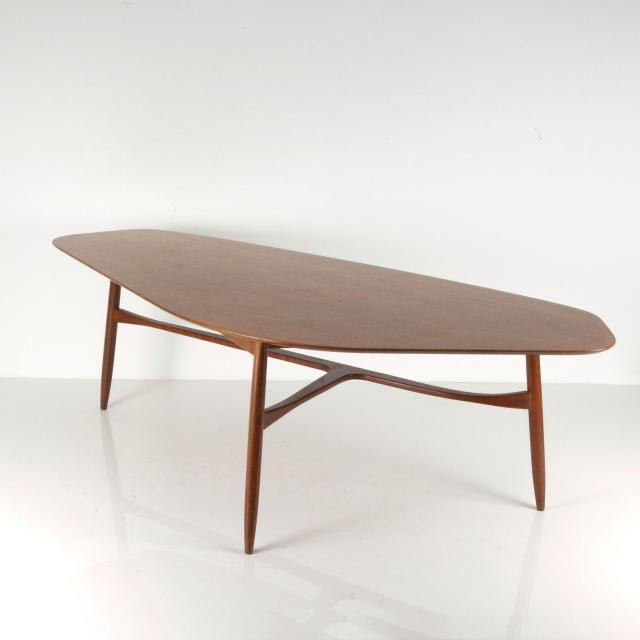table: (35, 195, 627, 570)
